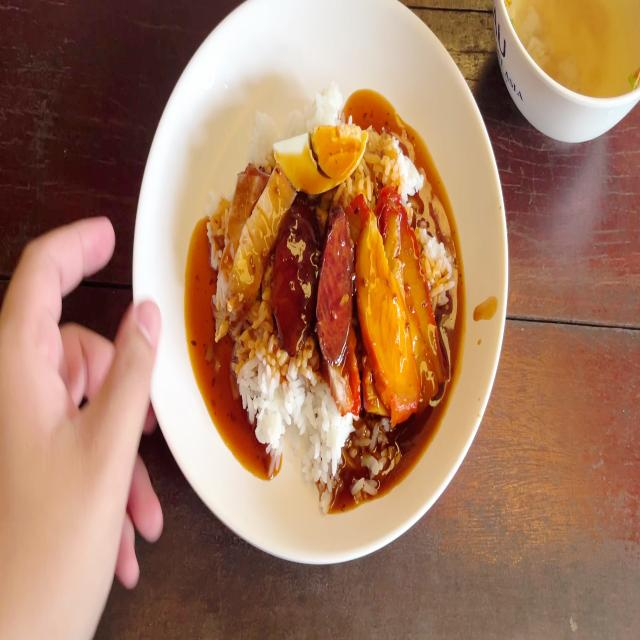boiled_egg: (277, 125, 371, 188)
chainese_sausage: (268, 202, 354, 351), (314, 213, 356, 362), (270, 209, 319, 330)
crispy_pork: (215, 163, 288, 324), (231, 180, 296, 317), (212, 162, 268, 314)
red_pork: (356, 186, 440, 417), (379, 184, 444, 390), (357, 207, 412, 409)
red_pork_and_crispy_pork: (208, 84, 462, 508)
rice: (238, 325, 294, 447), (288, 382, 343, 483), (375, 130, 422, 198)
